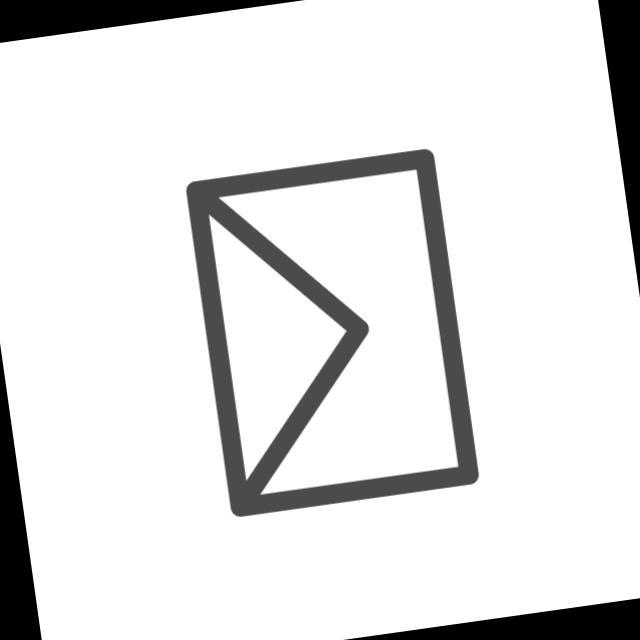letter: (182, 144, 488, 526)
